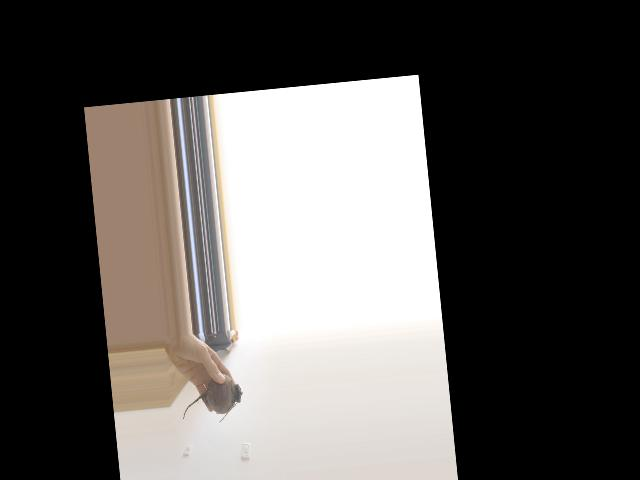beet: (179, 372, 245, 426)
